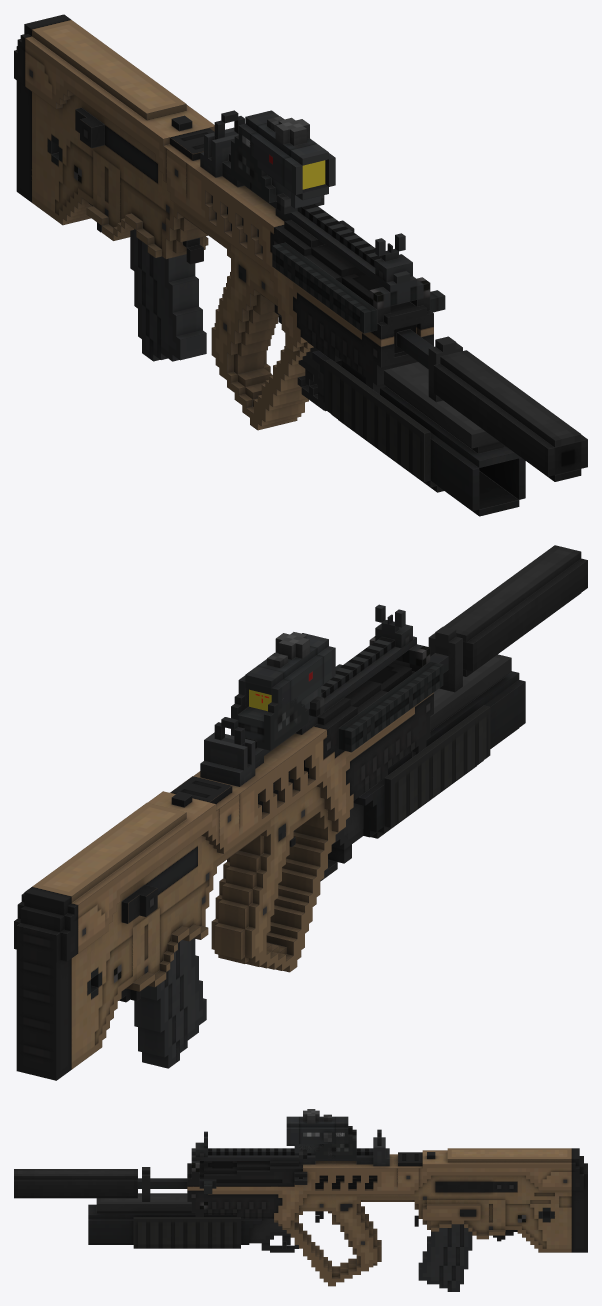
The model's file is RD_TAR21_SNOW.glb.
The picture shows the model from 3 angles, top to bottom: view 1: azimuth 30°, elevation 25°; view 2: azimuth 150°, elevation 25°; view 3: azimuth 270°, elevation 25°; orthographic projection. The views are drawn at different scales.
Visible parts, largest first — view 1: TAR21, GP_M203, SILENCER_6X6, TAR21_CLIP, SCOPE_TASCO, TAR21_GRIP, SCOPE_EOTECH, TAR21_SCOPE; view 2: TAR21, GP_M203, SILENCER_6X6, TAR21_CLIP, SCOPE_TASCO, TAR21_GRIP, SCOPE_EOTECH, TAR21_SCOPE; view 3: TAR21, GP_M203, SILENCER_6X6, TAR21_CLIP, TAR21_GRIP, SCOPE_TASCO, SCOPE_EOTECH, TAR21_SCOPE.
Part boxes in pixels (box(x1,y1,x2,y2)): TAR21: box(14, 14, 433, 430); GP_M203: box(297, 336, 525, 516); SILENCER_6X6: box(433, 350, 587, 481); TAR21_CLIP: box(130, 229, 206, 361); SCOPE_TASCO: box(238, 110, 335, 214); TAR21_GRIP: box(293, 292, 433, 394); SCOPE_EOTECH: box(231, 133, 321, 208); TAR21_SCOPE: box(214, 110, 412, 282); TAR21: box(14, 636, 448, 1080); GP_M203: box(320, 626, 525, 881); SILENCER_6X6: box(444, 545, 587, 676); TAR21_CLIP: box(134, 938, 206, 1068); SCOPE_TASCO: box(238, 632, 335, 723); TAR21_GRIP: box(346, 693, 433, 800); SCOPE_EOTECH: box(231, 682, 321, 750); TAR21_SCOPE: box(214, 604, 412, 744); TAR21: box(138, 1137, 587, 1286); GP_M203: box(88, 1167, 298, 1252); SILENCER_6X6: box(14, 1169, 137, 1198); TAR21_CLIP: box(418, 1224, 472, 1291); TAR21_GRIP: box(187, 1190, 282, 1218); SCOPE_TASCO: box(286, 1109, 348, 1158); SCOPE_EOTECH: box(294, 1126, 356, 1158); TAR21_SCOPE: box(195, 1129, 381, 1157).
Bounding box in the file's own units: 0.1378 × 0.4625 × 1.37.
7 materials, 7 textured.
